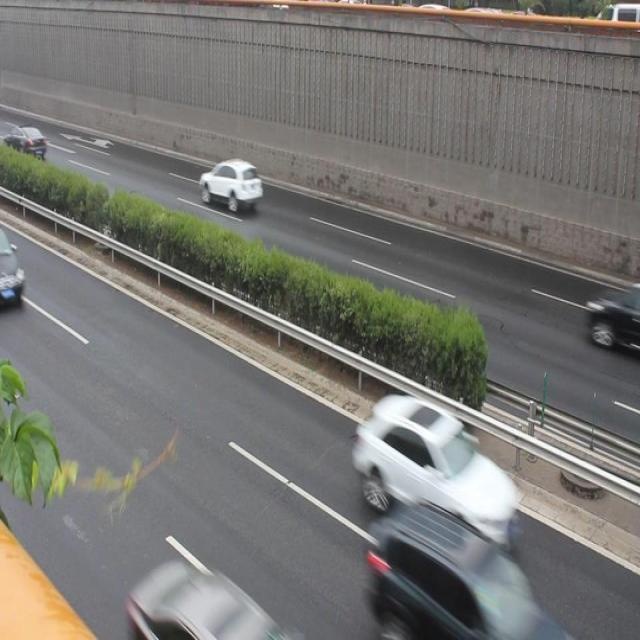car: (359, 499, 565, 640), (348, 391, 512, 535), (130, 556, 291, 640), (575, 280, 640, 353), (199, 155, 264, 215)
truck: (1, 224, 28, 320)
